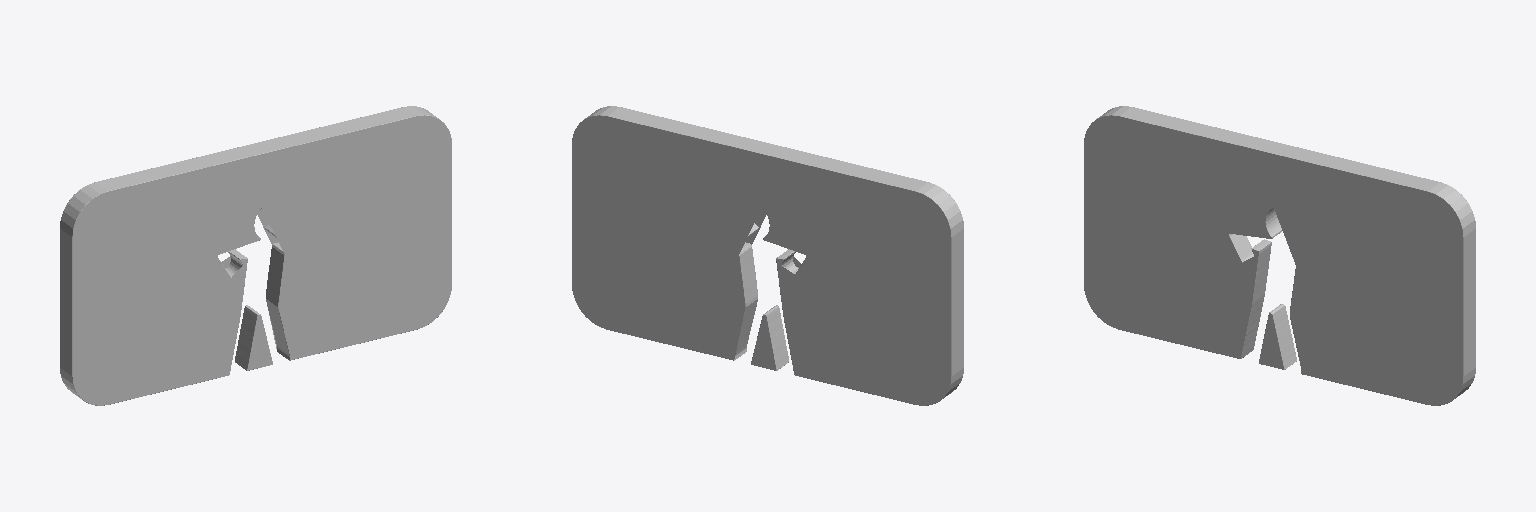
3 views of the same model, side by side, from view 1: azimuth 30°, elevation 25°; view 2: azimuth 150°, elevation 25°; view 3: azimuth 330°, elevation 25° (orthographic).
Visible parts, largest first — view 1: POSE21; view 2: POSE21; view 3: POSE21.
Part boxes in pixels (x1,y1,x2,y2): POSE21: (60, 106, 451, 405); POSE21: (572, 106, 963, 405); POSE21: (1084, 106, 1475, 405).
Bounding box in the file's own units: 12 × 6.45 × 0.7.